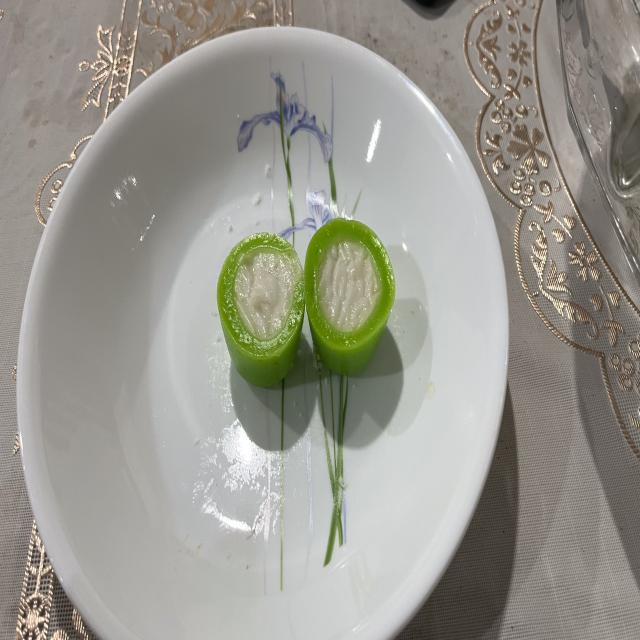nona-manis: (215, 230, 307, 392), (305, 218, 395, 376)
